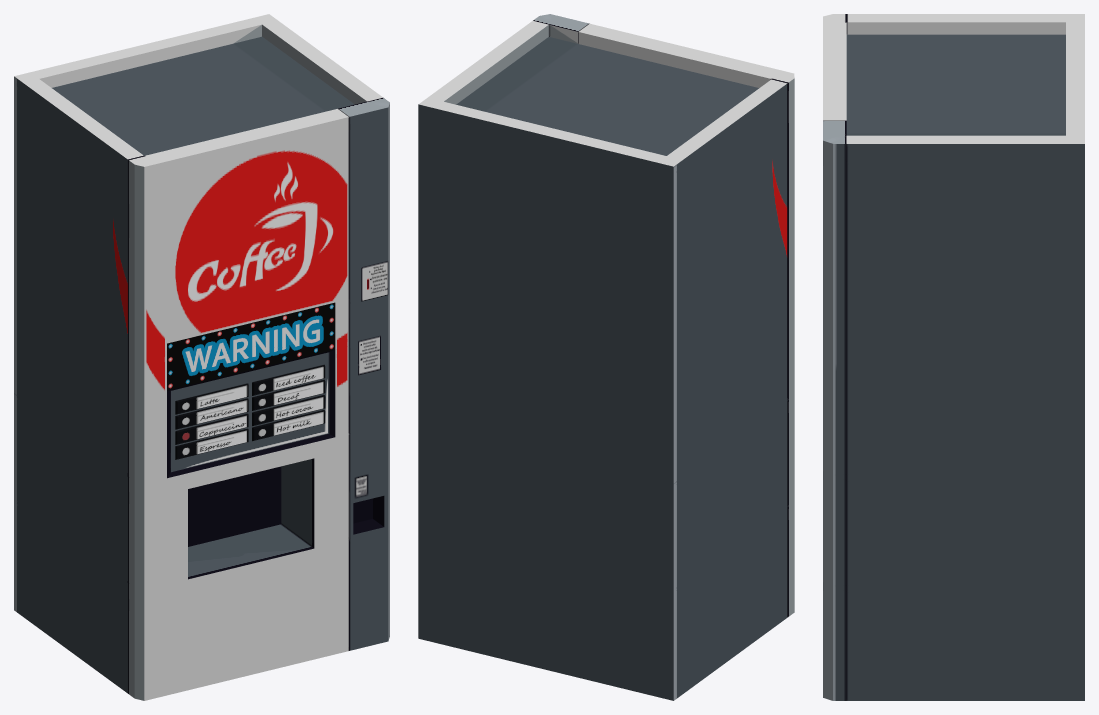
File: CoffeeMachine (2).fbx
The picture shows the model from 3 angles, left to right: view 1: azimuth 30°, elevation 25°; view 2: azimuth 150°, elevation 25°; view 3: azimuth 270°, elevation 25°; orthographic projection. The views are drawn at different scales.
Visible parts, largest first — view 1: CoffeeMachine; view 2: CoffeeMachine; view 3: CoffeeMachine.
Part boxes in pixels (left/top/right/bottom): CoffeeMachine: left=14, top=14, right=389, bottom=700; CoffeeMachine: left=418, top=14, right=794, bottom=700; CoffeeMachine: left=823, top=14, right=1084, bottom=700.
Size of the model in its own units: 1 by 2 by 0.8524.
1 material, 1 textured.
